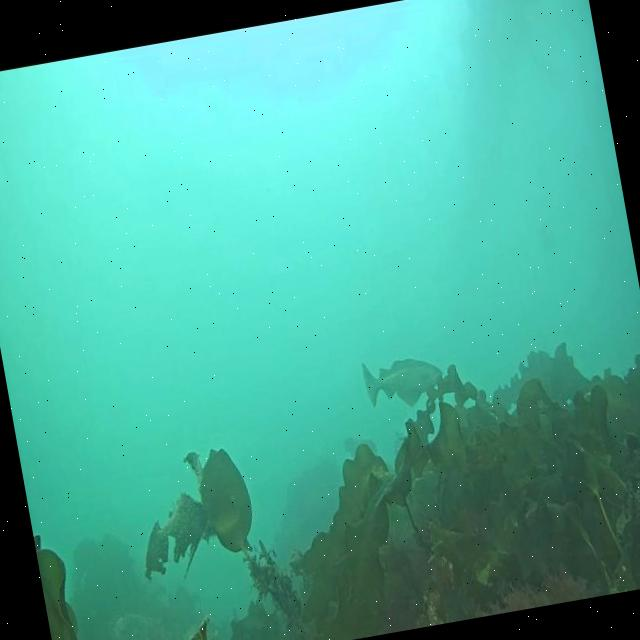fish: (362, 355, 446, 408)
